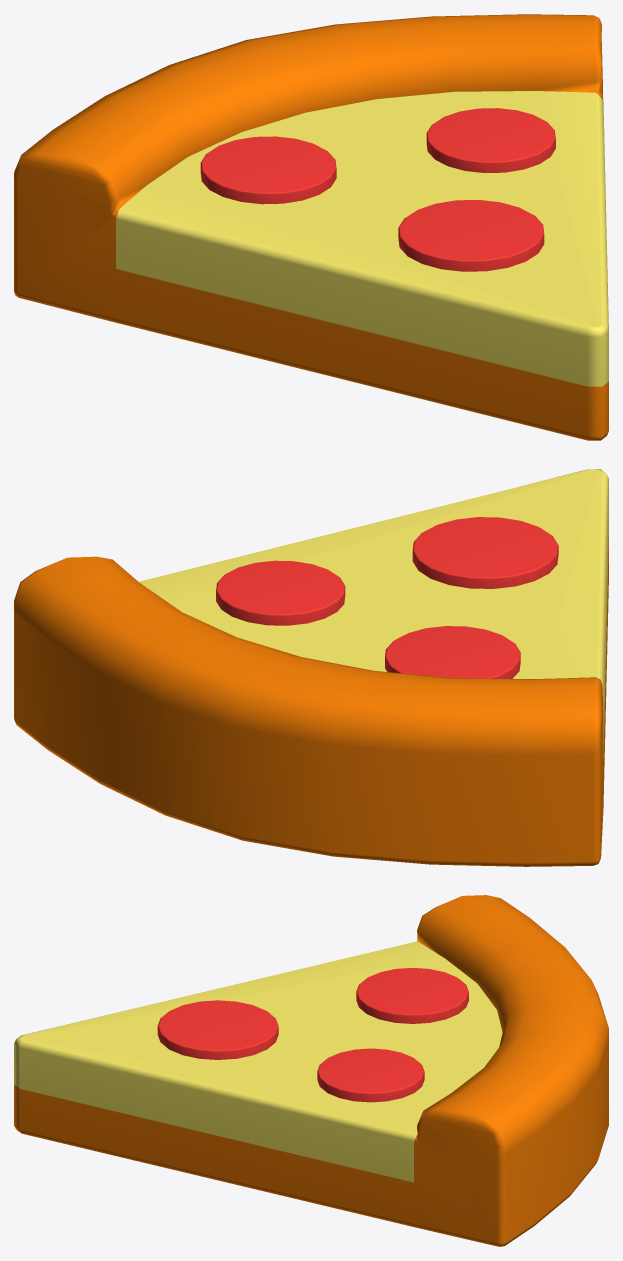
Rendered from Store_1_Pizza_Slice_1.glb.
3 renders of one model, top to bottom at view 1: azimuth 30°, elevation 25°; view 2: azimuth 150°, elevation 25°; view 3: azimuth 270°, elevation 25°, orthographic. The views are drawn at different scales.
Parts seen in each view (by area): view 1: Store_1_Pizza_Slice_1; view 2: Store_1_Pizza_Slice_1; view 3: Store_1_Pizza_Slice_1.
Boxes of the visible parts, bbox=[...] form: Store_1_Pizza_Slice_1: bbox=[14, 14, 608, 440]; Store_1_Pizza_Slice_1: bbox=[14, 469, 608, 866]; Store_1_Pizza_Slice_1: bbox=[14, 895, 608, 1246].
Bounding box in the file's own units: 0.2697 × 0.0692 × 0.2879.
1 material, 1 textured.
